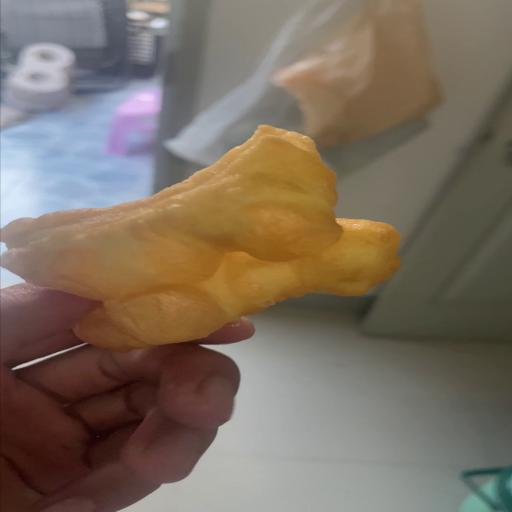street_golden_good: (2, 127, 397, 350)
